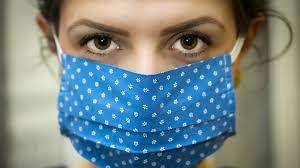FaceMask: (57, 54, 236, 168)
